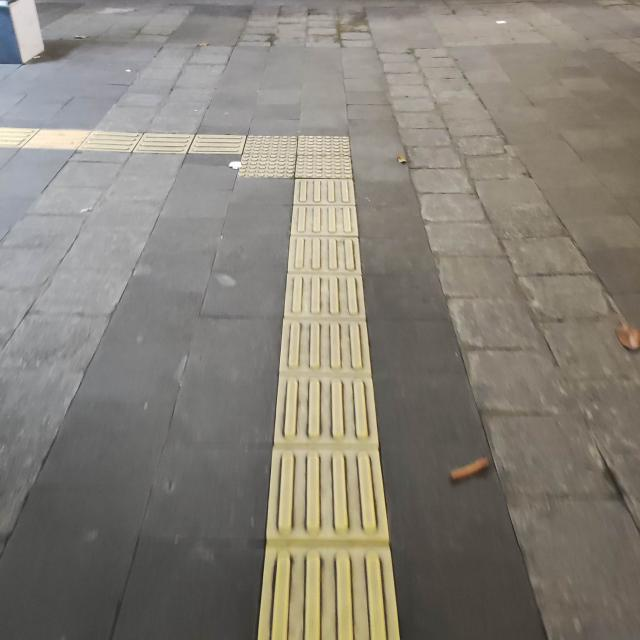kiri: (151, 105, 384, 208)
